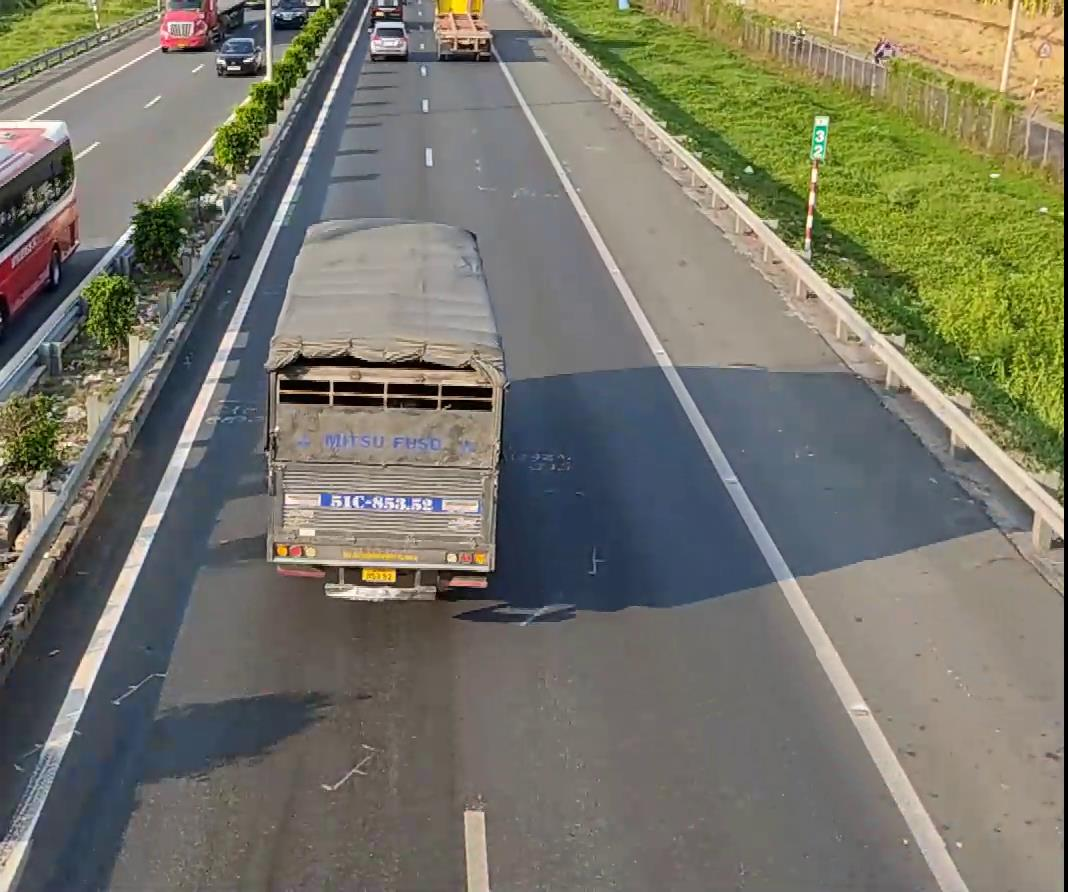bus: (0, 116, 81, 381)
truck: (260, 216, 507, 611)
